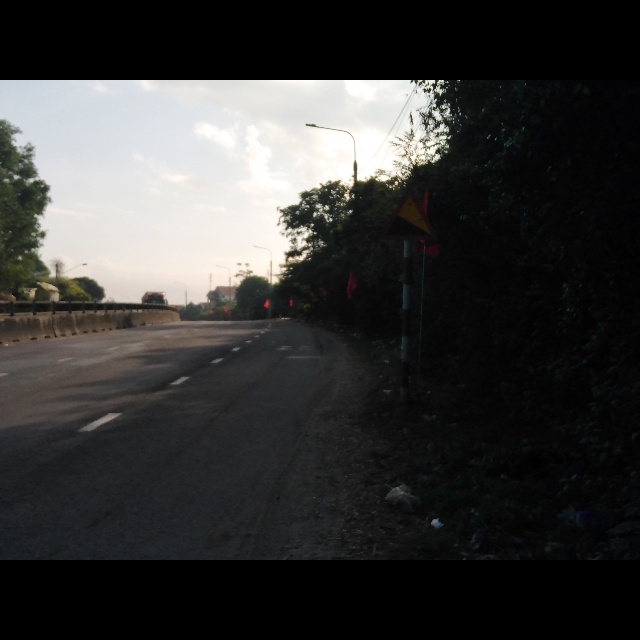Dốc lên nguy hiểm: (383, 187, 442, 242)
